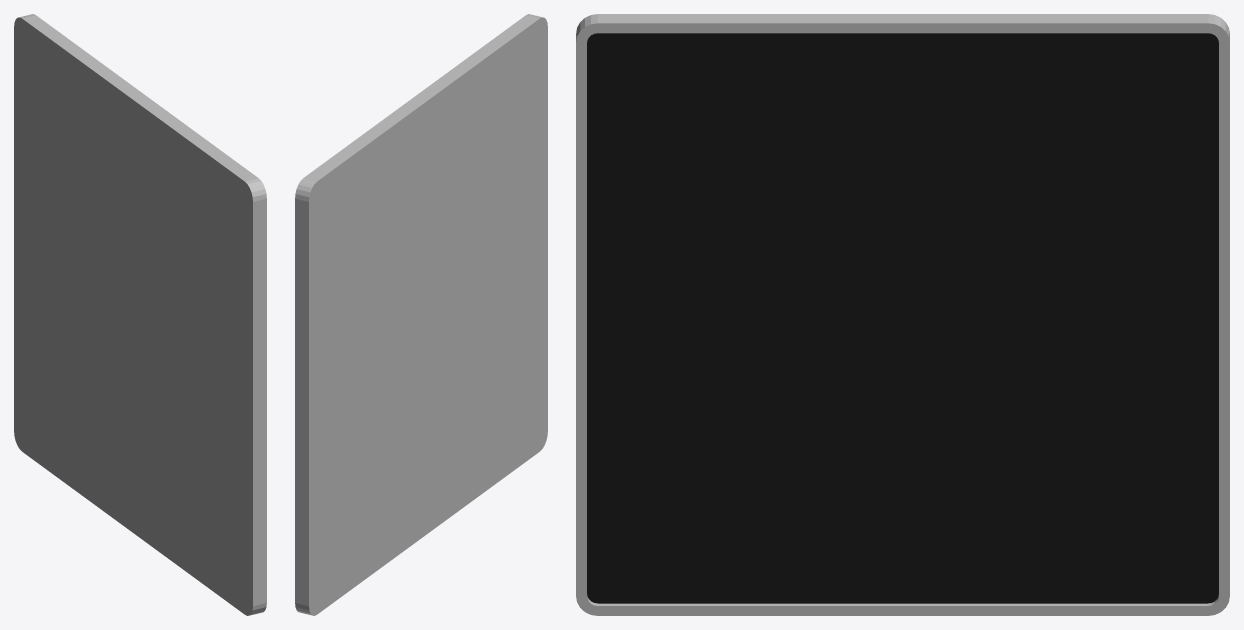
The model's file is worldInfo.fbx.
3 views of the same model, side by side, from view 1: azimuth 30°, elevation 25°; view 2: azimuth 150°, elevation 25°; view 3: azimuth 270°, elevation 25° (orthographic). The views are drawn at different scales.
Parts seen in each view (by area): view 1: Cube; view 2: Cube; view 3: Cube.
Boxes of the visible parts, x1=… form: Cube: x1=14, y1=14, x2=266, y2=615; Cube: x1=295, y1=14, x2=547, y2=615; Cube: x1=576, y1=14, x2=1229, y2=615.
Size of the model in its own units: 10.08 by 300 by 300.
